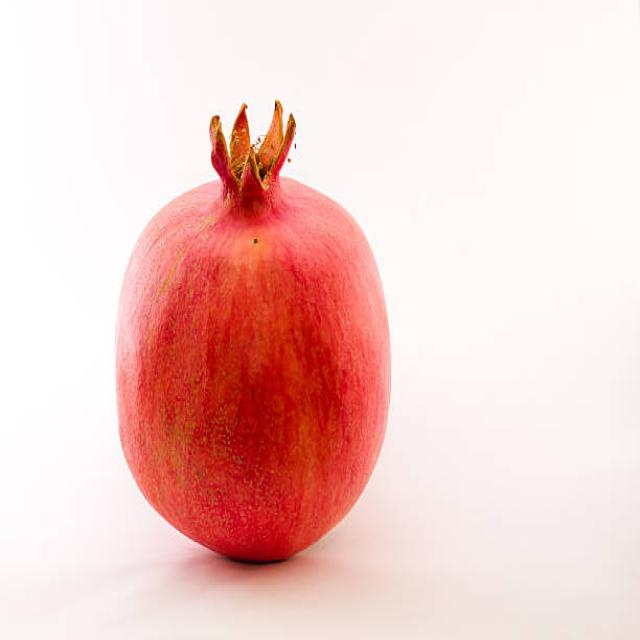Ripe: (109, 97, 394, 568)
